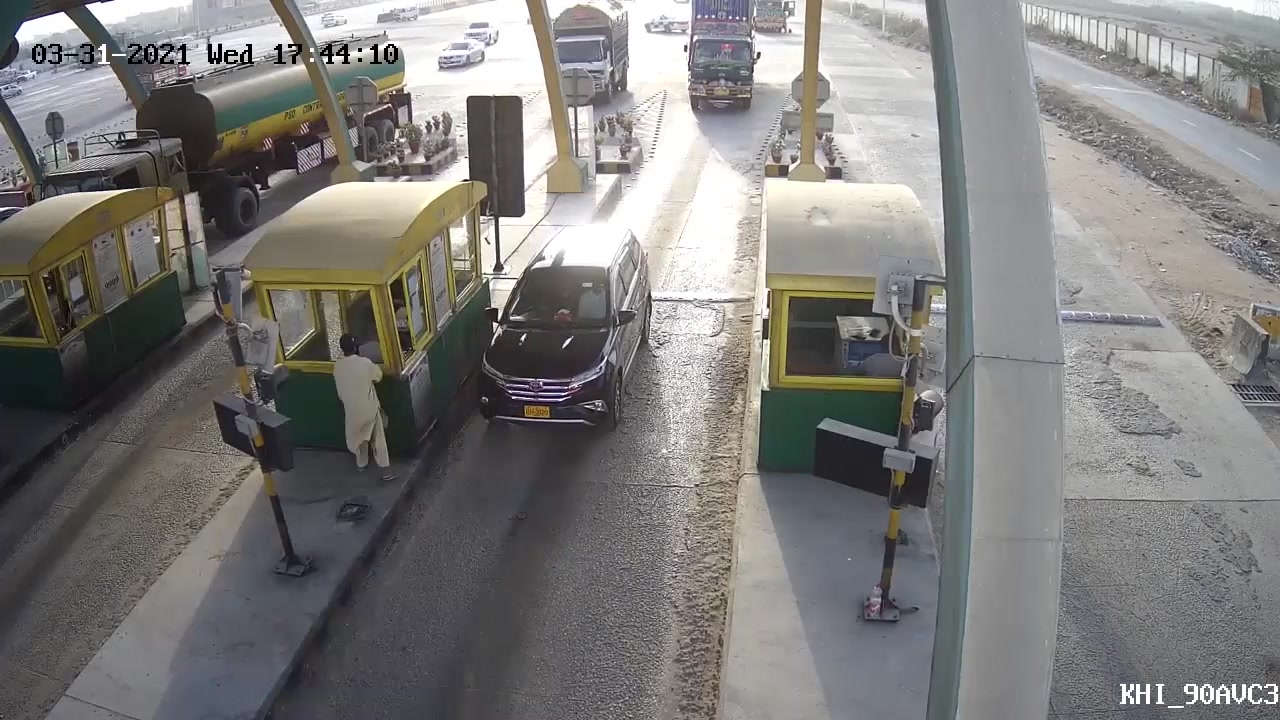F1: (466, 218, 656, 449)
